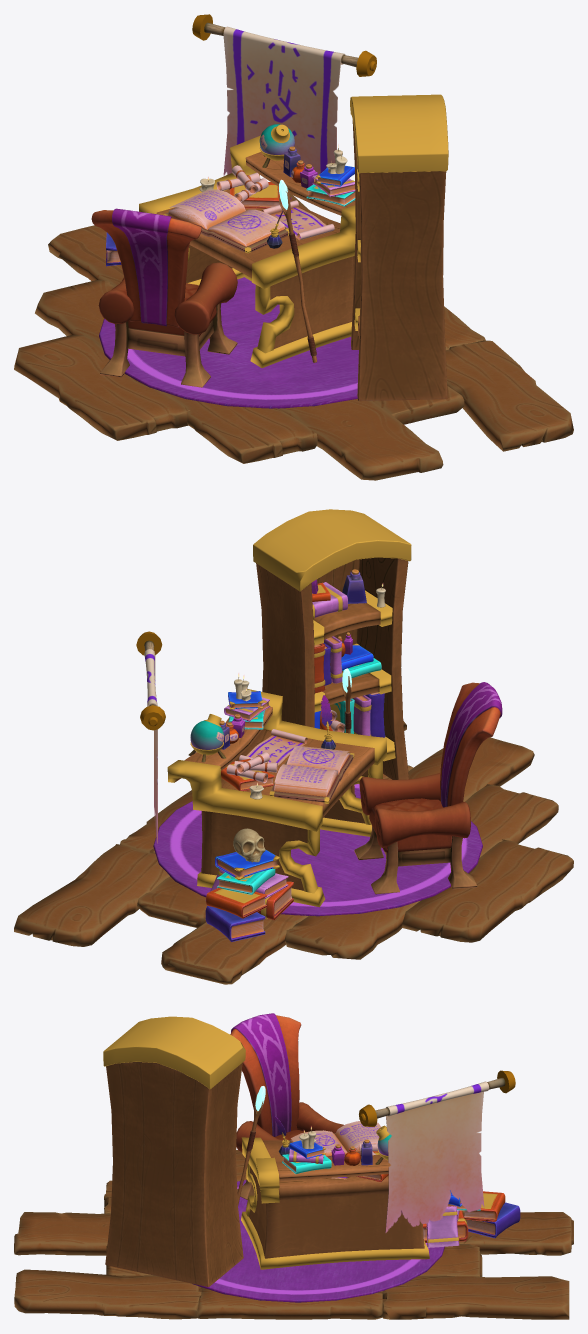
File: Study_room.glb
The picture shows the model from 3 angles, top to bottom: view 1: azimuth 30°, elevation 25°; view 2: azimuth 150°, elevation 25°; view 3: azimuth 270°, elevation 25°; orthographic projection. The views are drawn at different scales.
Parts seen in each view (by area): view 1: Object_10, Object_6, Object_7, Object_4, Object_9, Object_8; view 2: Object_10, Object_6, Object_4, Object_8, Object_9, Object_5, Object_7, Object_2; view 3: Object_10, Object_6, Object_7, Object_4, Object_8.
Part boxes in pixels (x1,y1,x2,y2): Object_10: (91,94,448,401); Object_6: (14,193,573,480); Object_7: (192,14,376,175); Object_4: (106,163,355,266); Object_9: (216,165,334,240); Object_8: (259,124,317,188); Object_10: (167,509,502,907); Object_6: (14,721,573,984); Object_4: (205,582,385,941); Object_8: (188,569,366,762); Object_9: (226,710,345,783); Object_5: (233,583,385,862); Object_7: (139,631,165,843); Object_2: (136,633,163,730); Object_10: (103,1013,429,1286); Object_6: (14,1150,573,1319); Object_7: (359,1070,515,1232); Object_4: (282,1121,520,1247); Object_8: (331,1125,391,1165).
Bounding box in the file's own units: 3.21 × 2.32 × 4.8.
Materials: 8 (8 with a texture image).
